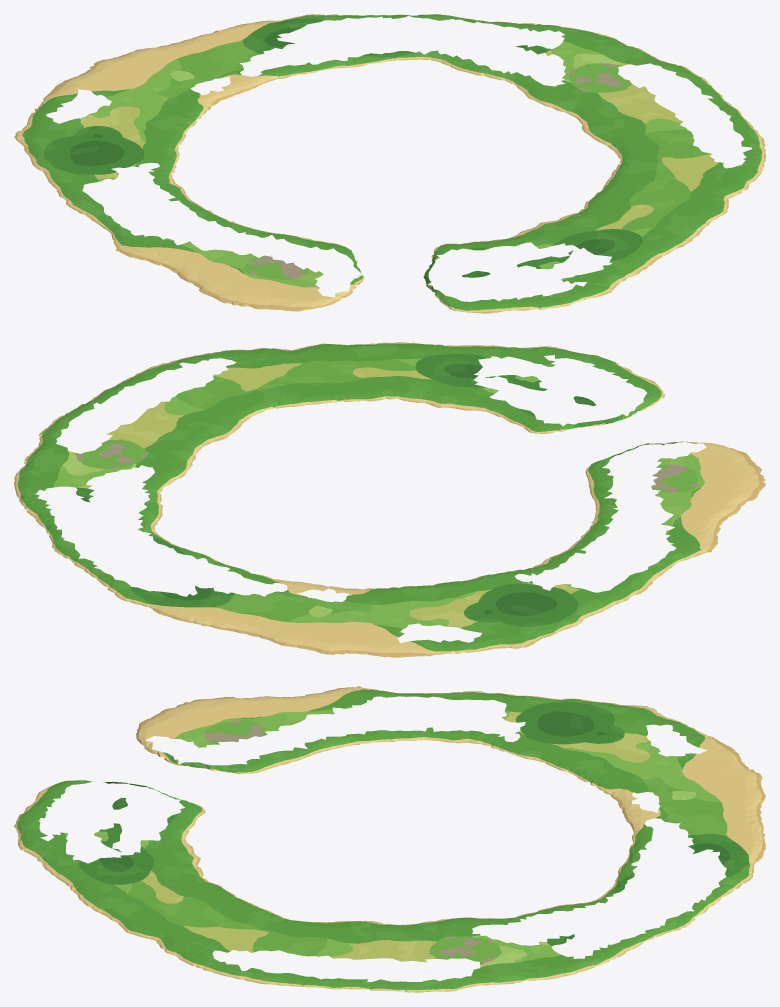
Rendered from Isl-atoll6-Ground.fbx.
The picture shows the model from 3 angles, top to bottom: view 1: azimuth 30°, elevation 25°; view 2: azimuth 150°, elevation 25°; view 3: azimuth 270°, elevation 25°; orthographic projection.
Visible parts, largest first — view 1: Isl-atoll6-Ground-c12, Isl-atoll6-Ground-c21, Isl-atoll6-Ground-c22, Isl-atoll6-Ground-c11, Isl-atoll6-Ground-c10, Isl-atoll6-Ground-c20; view 2: Isl-atoll6-Ground-c12, Isl-atoll6-Ground-c21, Isl-atoll6-Ground-c22, Isl-atoll6-Ground-c11, Isl-atoll6-Ground-c10, Isl-atoll6-Ground-c13, Isl-atoll6-Ground-c20; view 3: Isl-atoll6-Ground-c12, Isl-atoll6-Ground-c21, Isl-atoll6-Ground-c22, Isl-atoll6-Ground-c11, Isl-atoll6-Ground-c10, Isl-atoll6-Ground-c20, Isl-atoll6-Ground-c31, Isl-atoll6-Ground-c32.
Part boxes in pixels (bbox=[...]): Isl-atoll6-Ground-c12: bbox=[14, 31, 287, 229]; Isl-atoll6-Ground-c21: bbox=[507, 83, 765, 281]; Isl-atoll6-Ground-c22: bbox=[228, 14, 698, 116]; Isl-atoll6-Ground-c11: bbox=[107, 206, 567, 311]; Isl-atoll6-Ground-c10: bbox=[460, 285, 588, 313]; Isl-atoll6-Ground-c20: bbox=[568, 265, 648, 298]; Isl-atoll6-Ground-c12: bbox=[204, 541, 673, 657]; Isl-atoll6-Ground-c21: bbox=[73, 342, 550, 449]; Isl-atoll6-Ground-c22: bbox=[14, 416, 263, 617]; Isl-atoll6-Ground-c11: bbox=[488, 364, 765, 565]; Isl-atoll6-Ground-c10: bbox=[555, 351, 663, 392]; Isl-atoll6-Ground-c13: bbox=[198, 617, 333, 654]; Isl-atoll6-Ground-c20: bbox=[474, 345, 570, 363]; Isl-atoll6-Ground-c12: bbox=[405, 691, 758, 837]; Isl-atoll6-Ground-c21: bbox=[53, 834, 407, 986]; Isl-atoll6-Ground-c22: bbox=[405, 834, 759, 986]; Isl-atoll6-Ground-c11: bbox=[55, 687, 407, 837]; Isl-atoll6-Ground-c10: bbox=[14, 783, 59, 837]; Isl-atoll6-Ground-c20: bbox=[18, 834, 61, 876]; Isl-atoll6-Ground-c31: bbox=[292, 981, 406, 992]; Isl-atoll6-Ground-c32: bbox=[405, 981, 478, 992].
Size of the model in its own units: 109 by 0.49 by 113.
